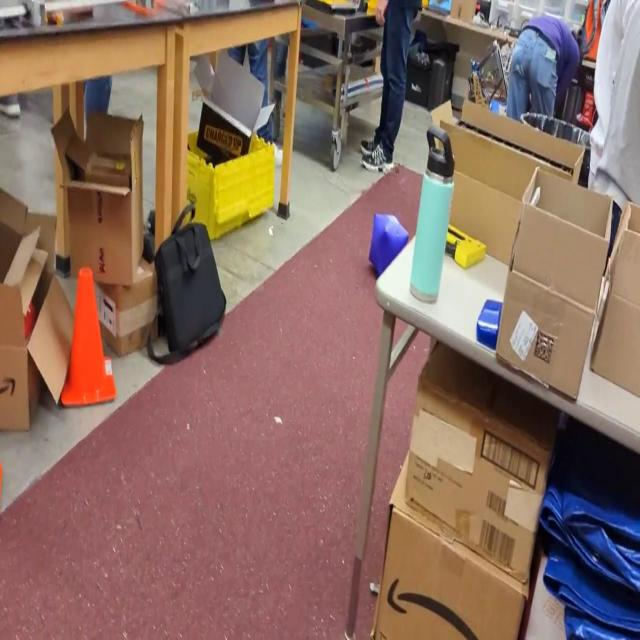frc_cone: (366, 0, 386, 17)
frc_cube: (367, 212, 409, 279)
